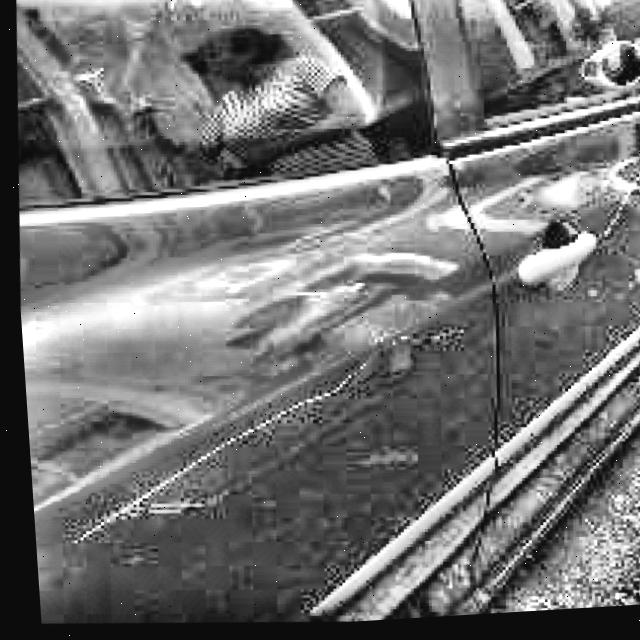door_scratch: (56, 353, 396, 563), (599, 145, 640, 250)
